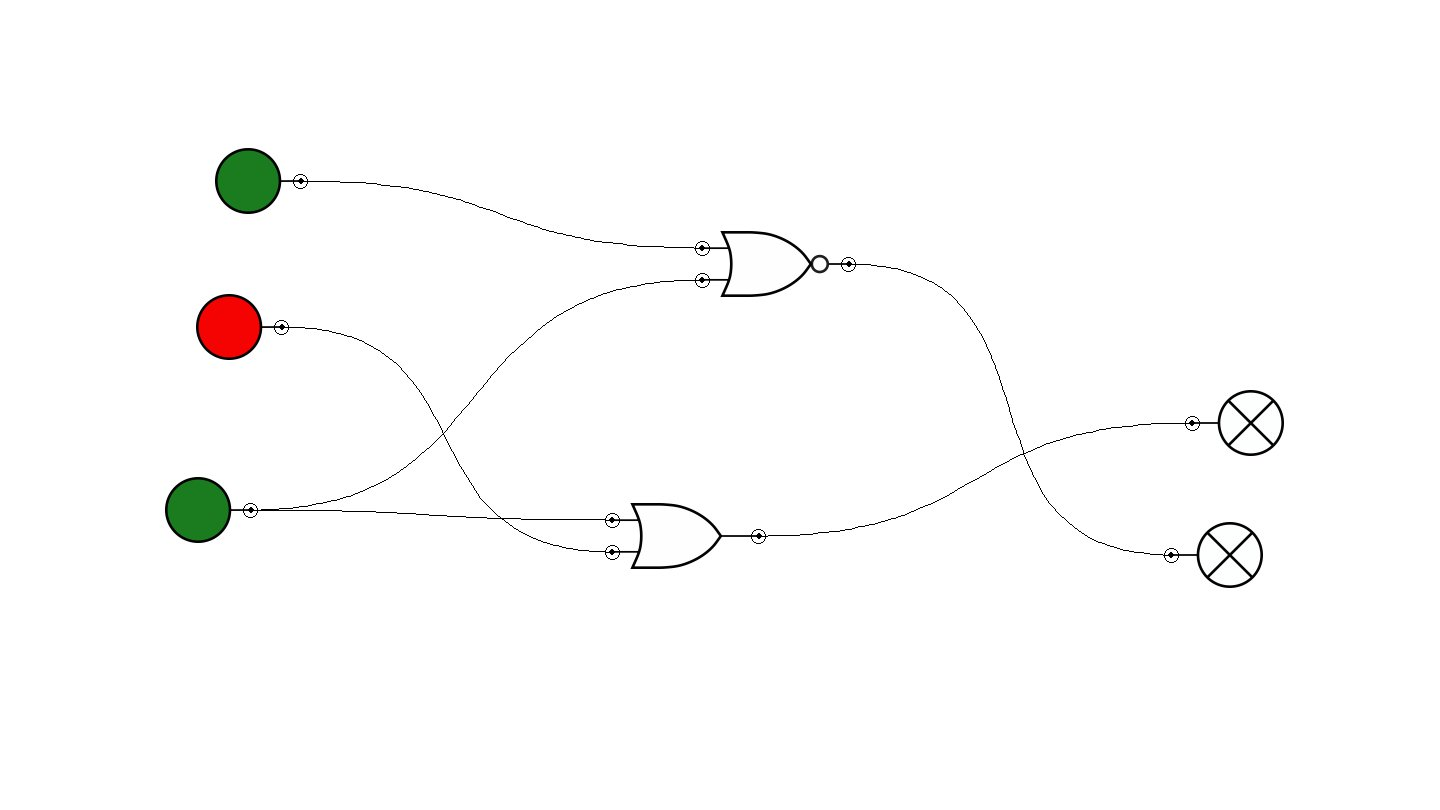bulb: (1185, 390, 1284, 456), (1164, 522, 1263, 588)
nor: (695, 231, 856, 297)
or: (605, 503, 766, 569)
switch_False: (196, 294, 289, 360)
switch_True: (165, 477, 258, 543), (215, 148, 308, 214)
